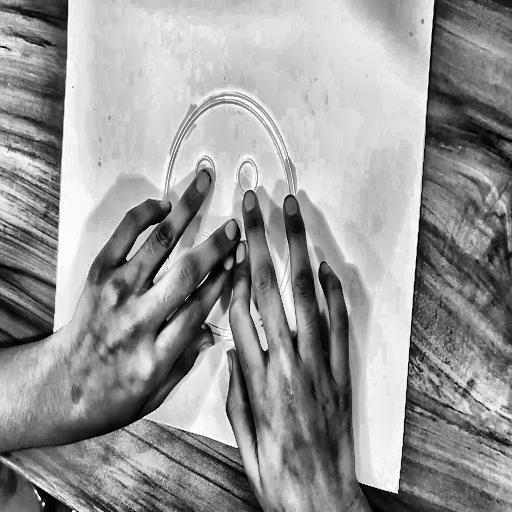bottom_left: (53, 366, 61, 380)
bottom_right: (393, 482, 402, 499)
button: (144, 71, 312, 368)
